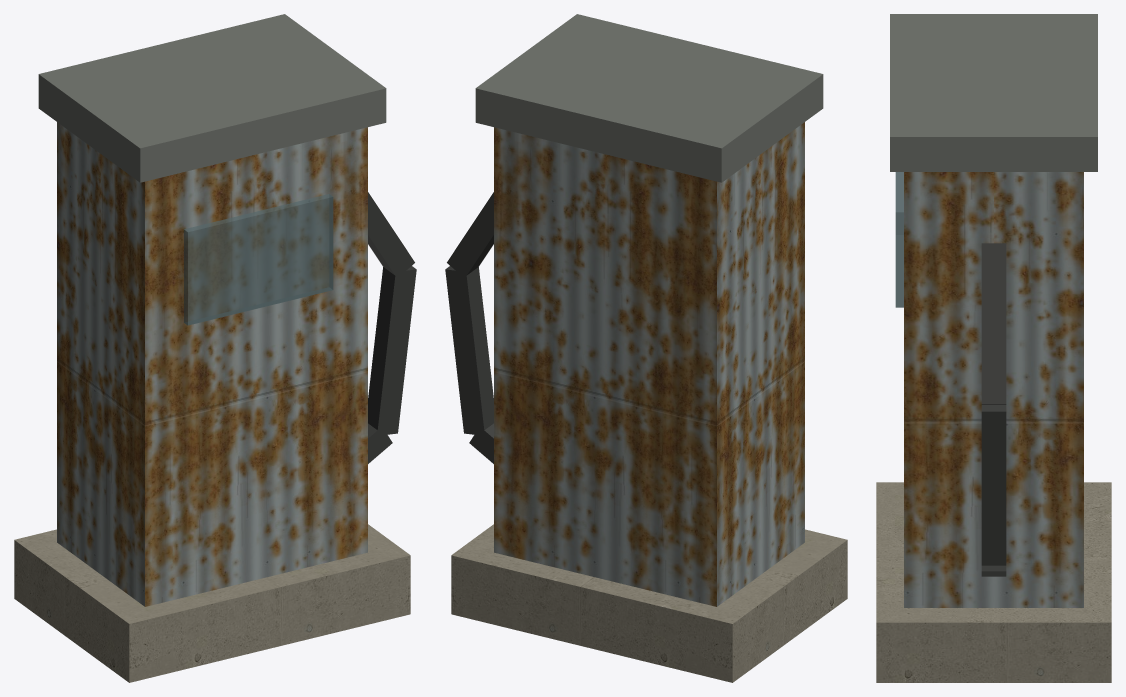
File: fuel_pump.glb
The picture shows the model from 3 angles, left to right: view 1: azimuth 30°, elevation 25°; view 2: azimuth 150°, elevation 25°; view 3: azimuth 270°, elevation 25°; orthographic projection. The views are drawn at different scales.
Parts seen in each view (by area): view 1: Pump_body, Pump_top, Pump_base, Pump_display, Pump_hose_part_2, Pump_hose_part_1; view 2: Pump_body, Pump_top, Pump_base, Pump_hose_part_2, Pump_hose_part_1; view 3: Pump_body, Pump_top, Pump_base, Pump_hose_part_1, Pump_hose_part_2, Pump_display.
Part boxes in pixels (x1,y1,x2,y2): Pump_body: (57, 122, 367, 606); Pump_top: (38, 14, 386, 182); Pump_base: (14, 524, 410, 682); Pump_display: (184, 194, 333, 325); Pump_hose_part_2: (368, 266, 416, 434); Pump_hose_part_1: (368, 192, 414, 275); Pump_body: (494, 122, 804, 606); Pump_top: (475, 14, 823, 182); Pump_base: (451, 524, 847, 682); Pump_hose_part_2: (445, 266, 493, 435); Pump_hose_part_1: (447, 192, 493, 278); Pump_body: (904, 172, 1083, 607); Pump_top: (890, 14, 1097, 171); Pump_base: (876, 482, 1111, 682); Pump_hose_part_1: (981, 243, 1006, 404); Pump_hose_part_2: (981, 405, 1006, 565); Pump_display: (895, 172, 903, 307).
Bounding box in the file's own units: 1.44 × 2.14 × 0.85.
5 materials, 2 textured.
